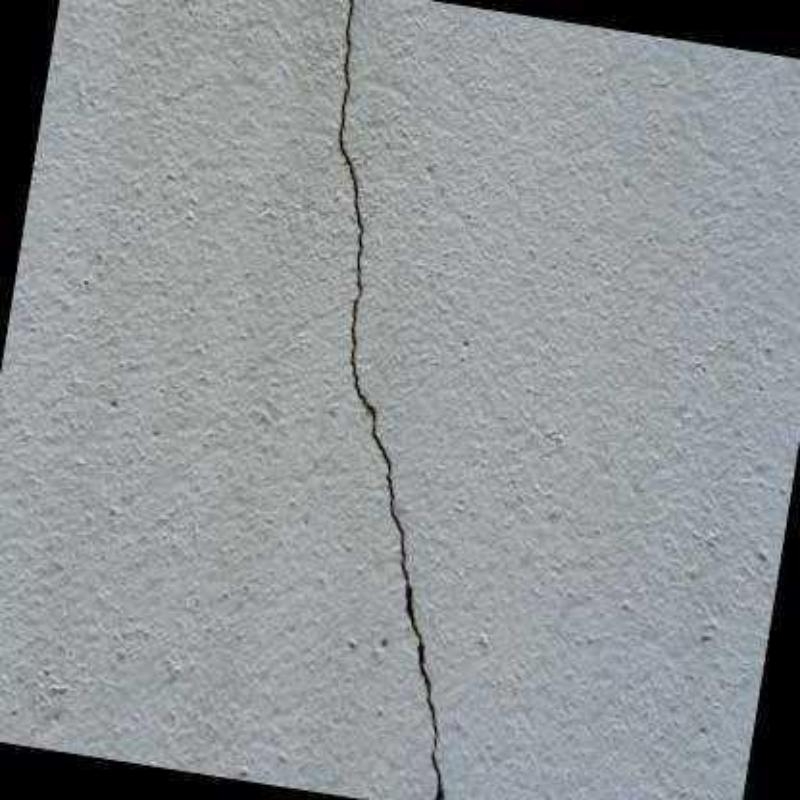pothole: (335, 0, 447, 800)
